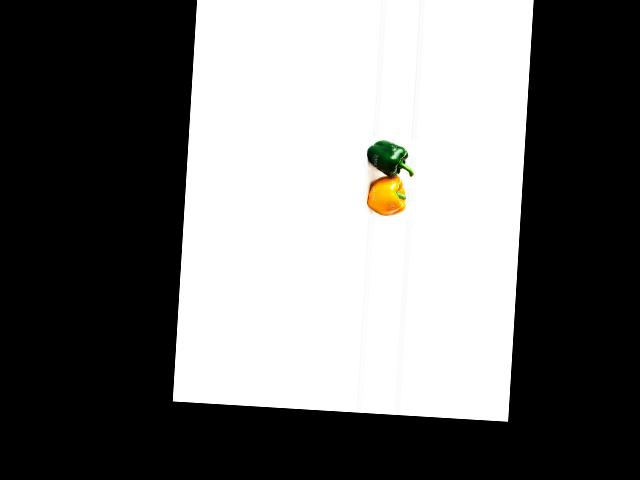bell_pepper: (360, 136, 411, 177)
